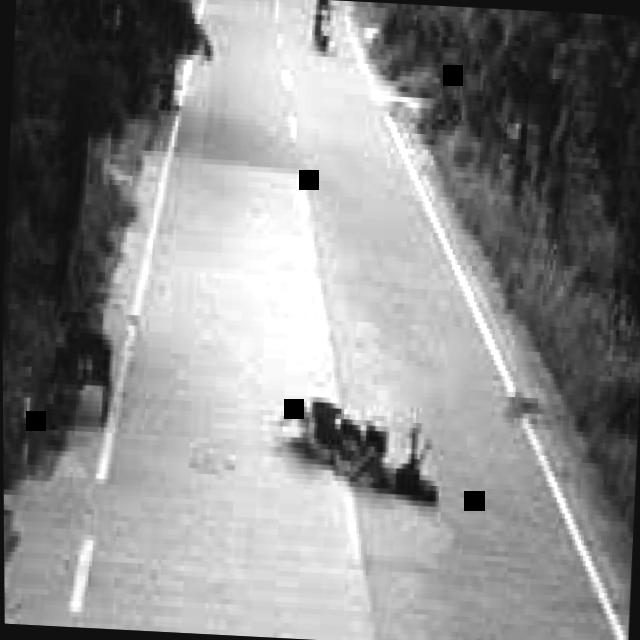Fall-Detected: (350, 390, 452, 508)
